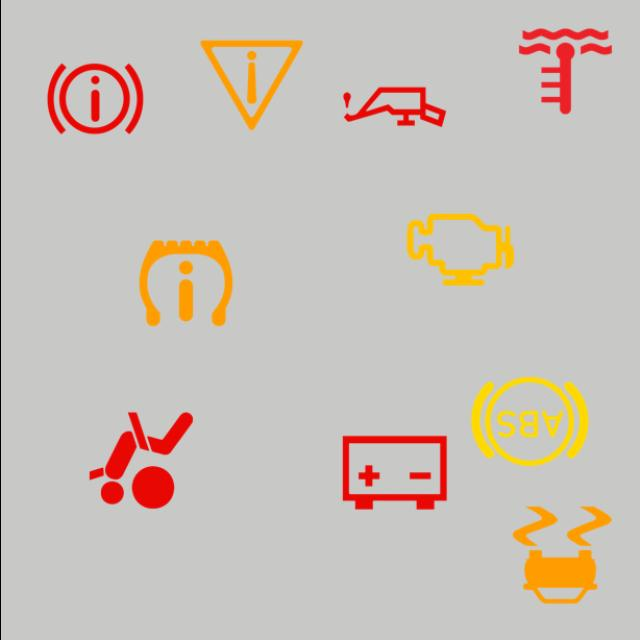Anti Lock Braking System: (465, 358, 593, 486)
Braking System Issue: (30, 34, 158, 162)
Charging System Issue: (330, 408, 458, 536)
Check Engine: (395, 185, 523, 314)
Electronic Stability Problem -ESP-: (498, 491, 626, 619)
Engine Overheating Warning Light: (501, 8, 628, 136)
Low Engine Oil Warning Light: (330, 43, 458, 171)
Low Tire Pressure Warning Light: (121, 219, 249, 347)
Master warning light: (186, 21, 314, 149)
SRS-Airbag: (76, 396, 204, 524)
